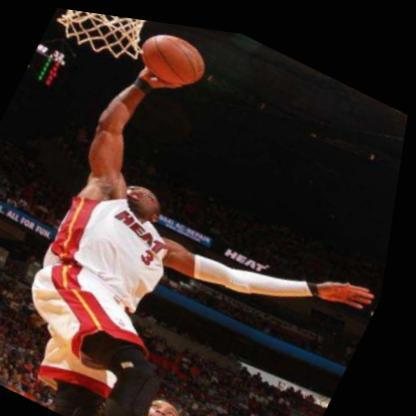basketball: (130, 19, 218, 93)
rim: (44, 6, 176, 73)
